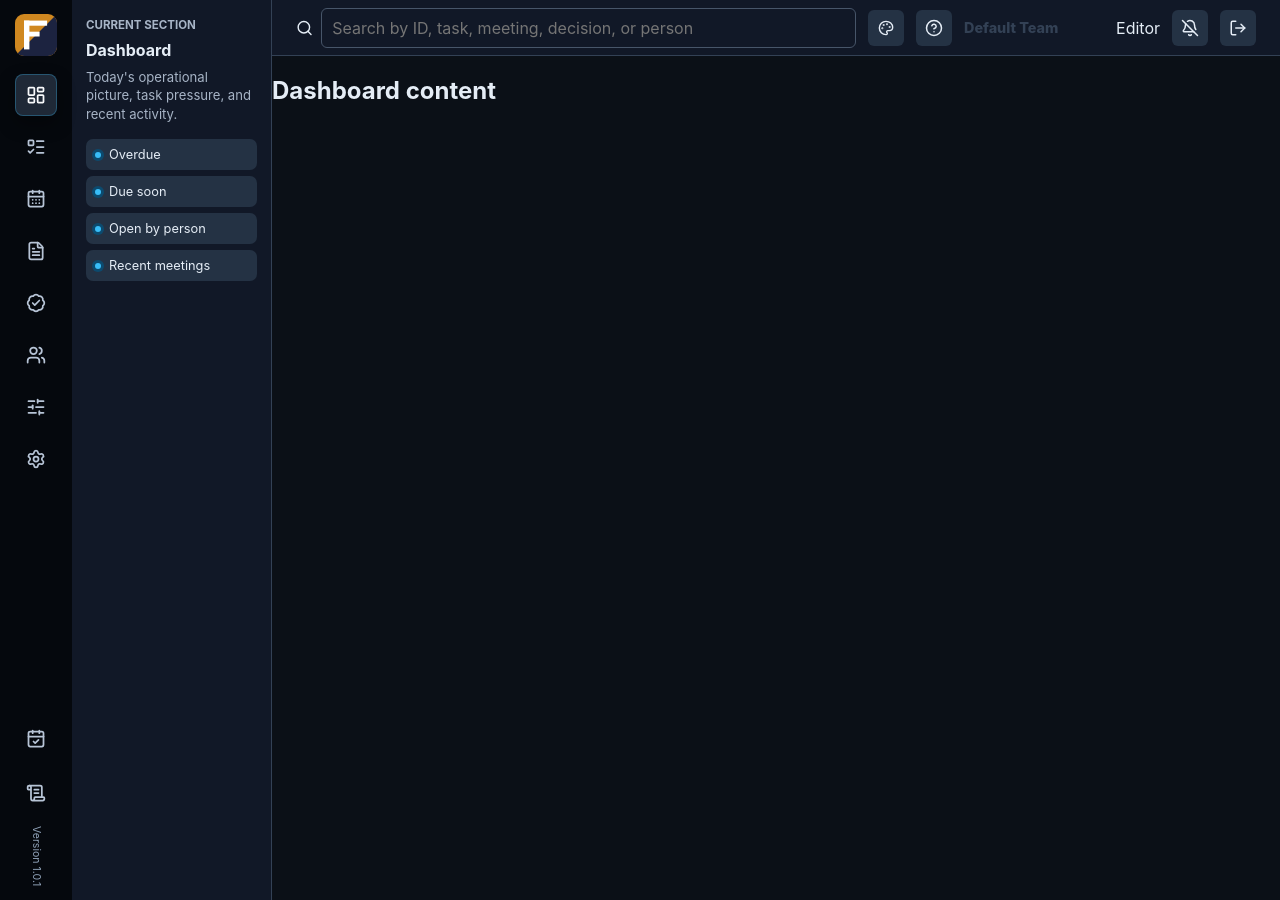
Test: AppShell split context rail › describes section context without referring to an ambiguous rail
What coordinates should you click on to do the following:
click the button named "Start guided tour"
I would click on:
 (934, 28)
Its box is [916,10,952,46].
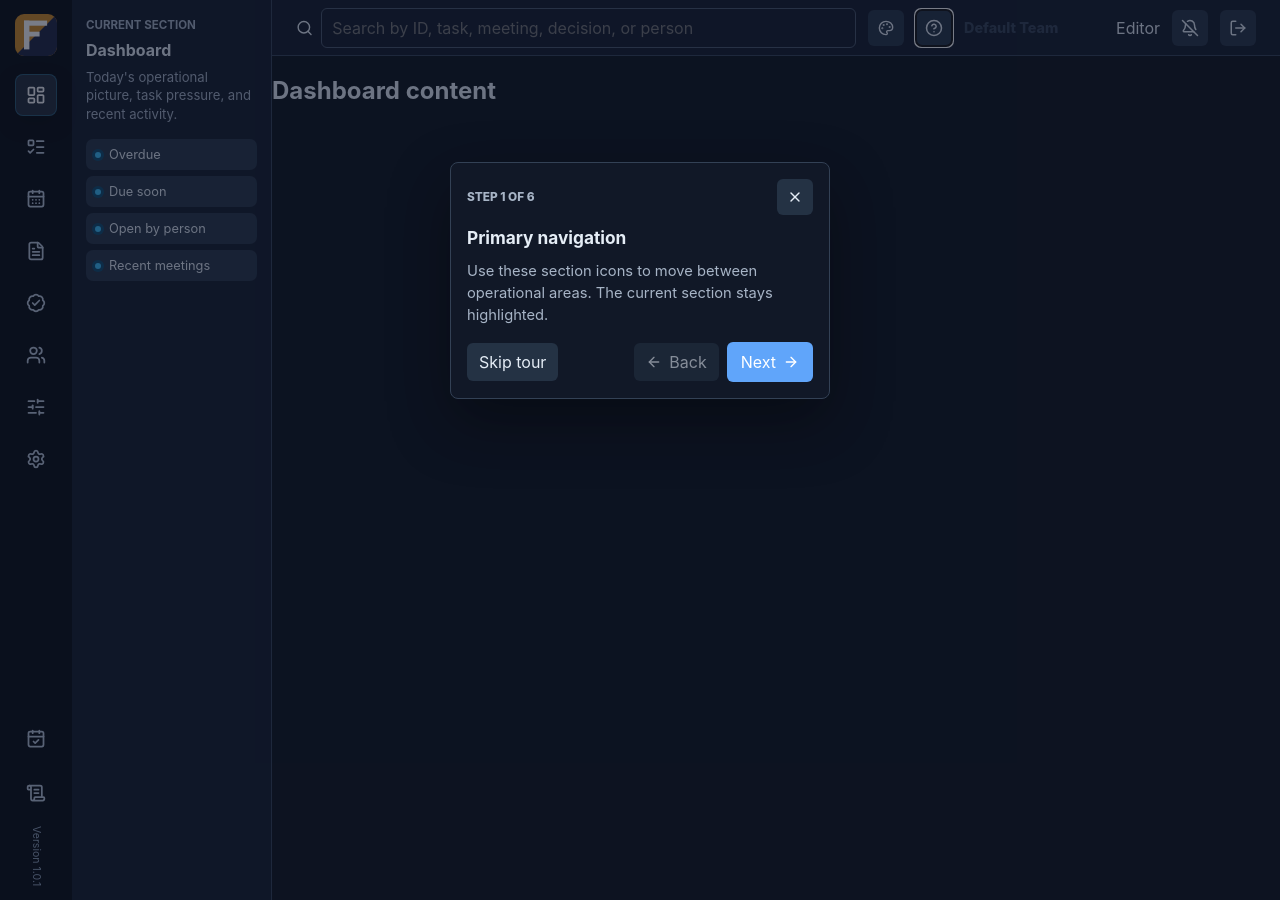
What coordinates should you click on to do the following:
click the button "Next"
I would click on:
 (770, 362)
Its box is [727,342,813,382].
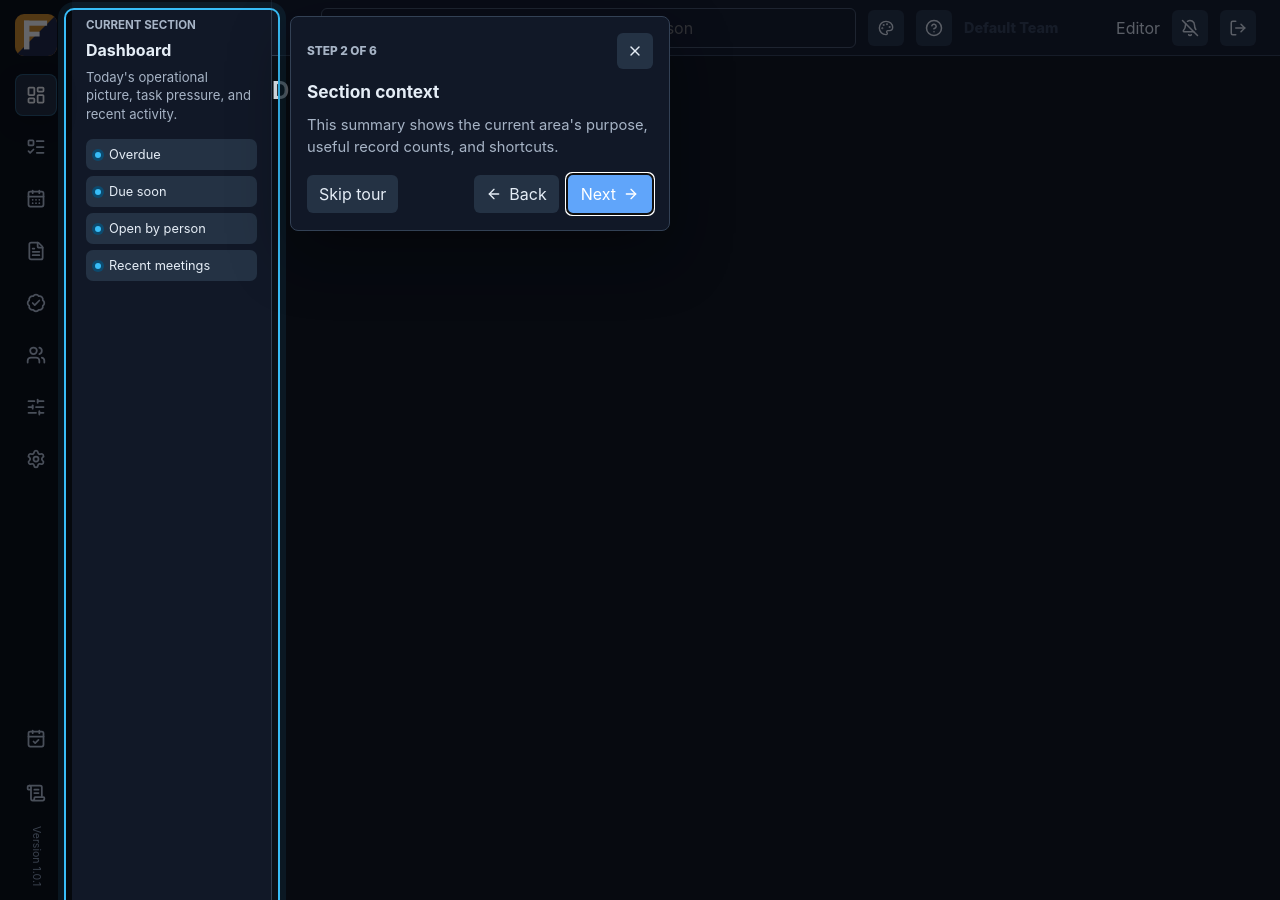
Check: the heading "Section context" is shown, box [307,81,439,102]
Check: the text "This summary shows the current area's purpose, useful record counts, and shortcuts." is shown, box [307,116,648,156]
